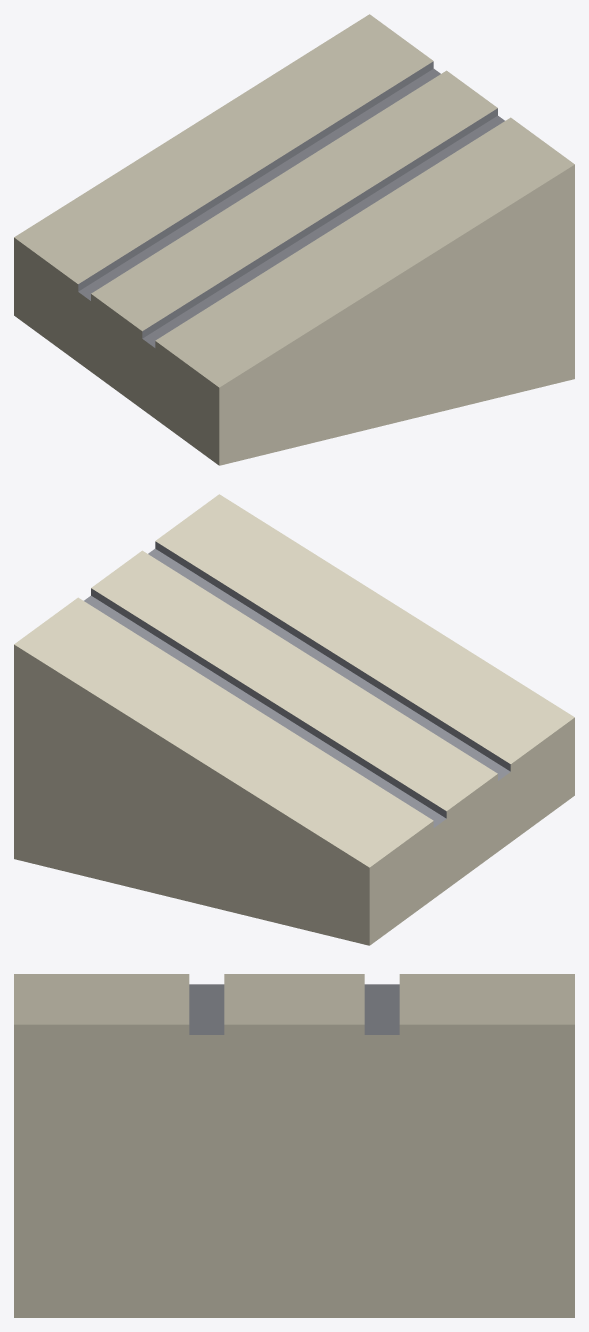
The model's file is tile292.fbx.
3 renders of one model, top to bottom at view 1: azimuth 30°, elevation 25°; view 2: azimuth 150°, elevation 25°; view 3: azimuth 270°, elevation 25°, orthographic. The views are drawn at different scales.
Visible parts, largest first — view 1: tile292; view 2: tile292; view 3: tile292.
Boxes of the visible parts, <box> form: tile292: <box>14,14,574,465</box>; tile292: <box>14,494,574,945</box>; tile292: <box>14,974,574,1317</box>.
Size of the model in its own units: 10 by 5.77 by 10.
